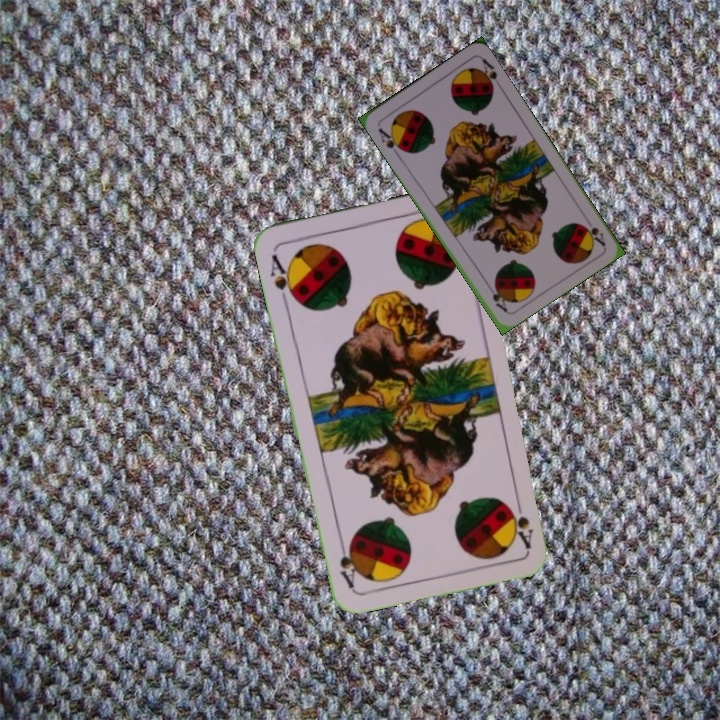SA: (266, 250, 299, 307), (507, 492, 535, 551), (374, 124, 407, 159), (577, 219, 608, 248)
